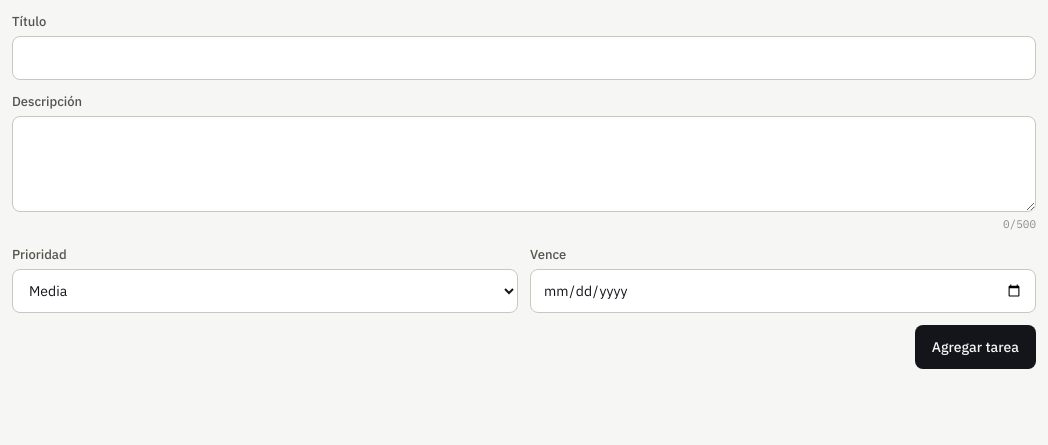
Test: TodoForm › muestra un error y conserva lo escrito si falla el guardado
Type "Tarea" into the field labelled "Título" at [524, 58], box [12,36,1036,80]
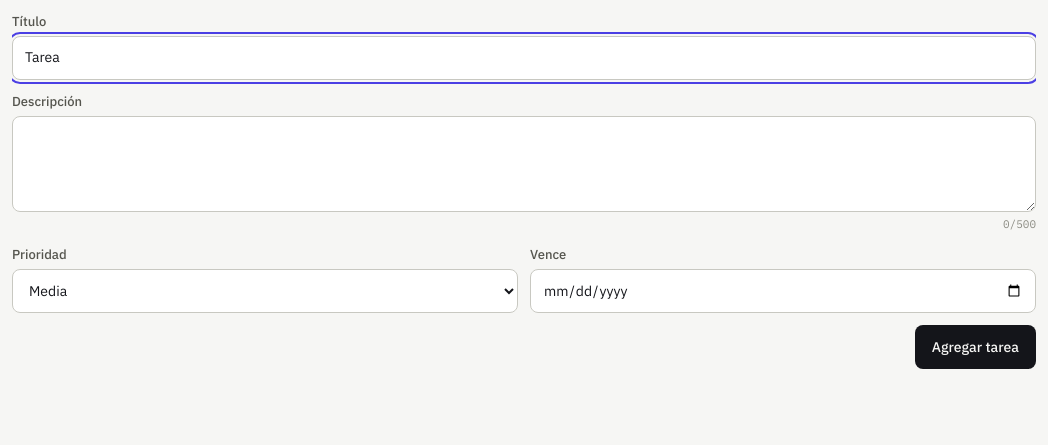
Click the button "Agregar tarea" at [975, 348], box [915,326,1036,370]
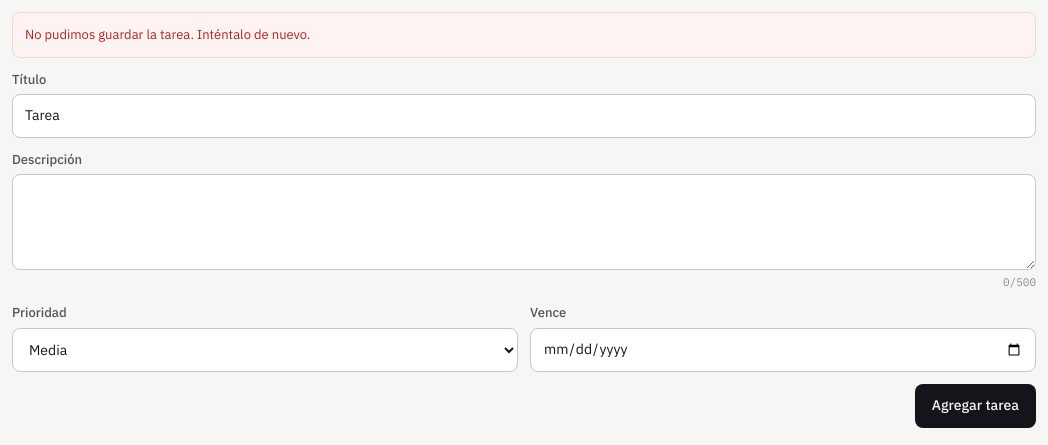
Check: the message shows "No pudimos guardar la tarea", box [25,26,310,43]
